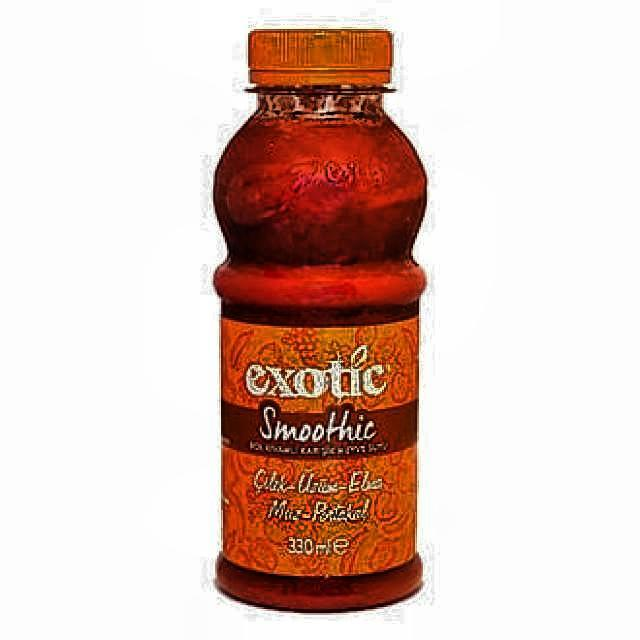plastic: (212, 28, 428, 615)
